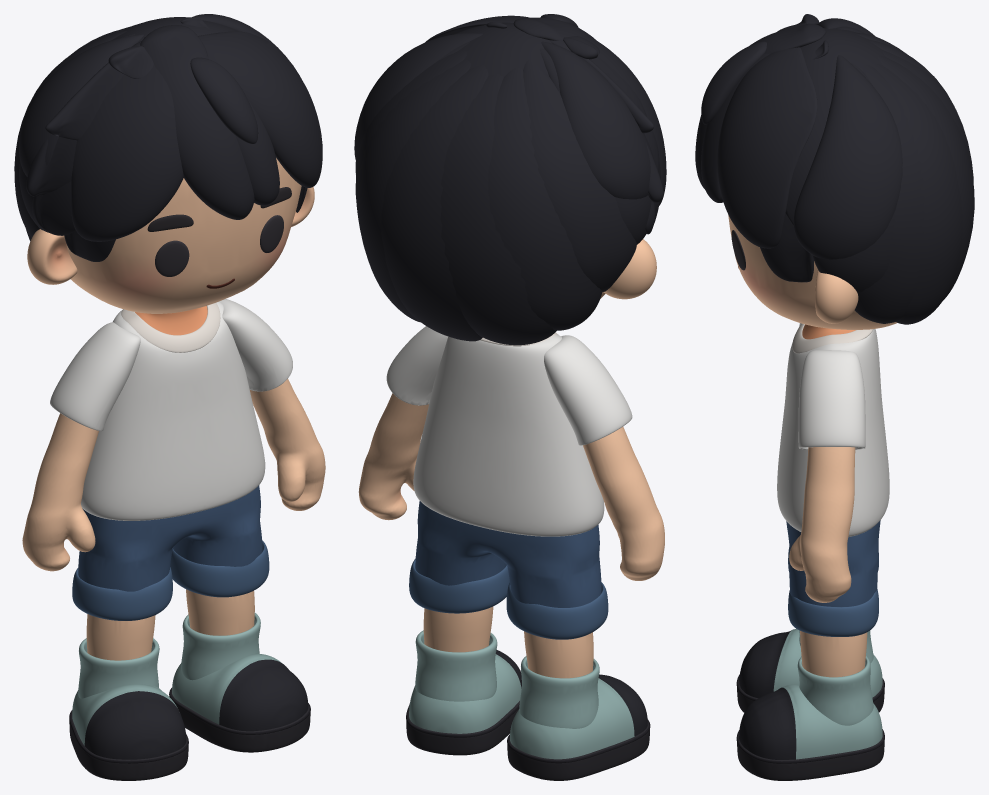
Rendered from nhan-vat-chibi.glb.
3 views of the same model, side by side, from view 1: azimuth 30°, elevation 25°; view 2: azimuth 150°, elevation 25°; view 3: azimuth 270°, elevation 25° (orthographic). The views are drawn at different scales.
Parts seen in each view (by area): view 1: Áo thun • thân và gấu, Đầu • da và sắc má, Mái 01 • cánh trái, Quần short • thân liền hai ống, Mái 02 • nhánh giữa dài, Mái 04 • cánh phải, Cánh tay và bàn tay trái, Giày • thân và mũi phải, Giày • thân và mũi trái, Áo thun • tay trái, Cánh tay và bàn tay phải, Lớp ngoài trái • móc giữa (+25 smaller); view 2: Áo thun • thân và gấu, Tóc gáy • trái, Tóc gáy • giữa, Tóc sau trái • dưới, Quần short • thân liền hai ống, Tóc thái dương • trái sau, Lớp ngoài trái • móc giữa, Cánh tay và bàn tay trái, Tóc gáy • phải, Áo thun • tay trái, Giày • thân và mũi trái, Cánh tay và bàn tay phải (+21 smaller); view 3: Lớp ngoài phải • mái vòng, Mái 04 • cánh phải, Áo thun • thân và gấu, Tóc gáy • phải, Cánh tay và bàn tay phải, Giày • thân và mũi phải, Tóc sau phải • dưới, Áo thun • tay phải, Nền tóc, Đầu • da và sắc má, Giày • thân và mũi trái, Tóc gáy • giữa (+14 smaller).
Boxes of the visible parts, <box> form: Áo thun • thân và gấu: <box>81,301,265,520</box>; Đầu • da và sắc má: <box>66,158,301,313</box>; Mái 01 • cánh trái: <box>71,41,183,241</box>; Quần short • thân liền hai ống: <box>78,485,262,591</box>; Mái 02 • nhánh giữa dài: <box>140,25,254,219</box>; Mái 04 • cánh phải: <box>198,31,322,187</box>; Cánh tay và bàn tay trái: <box>22,413,98,571</box>; Giày • thân và mũi phải: <box>172,653,308,731</box>; Giày • thân và mũi trái: <box>72,684,186,759</box>; Áo thun • tay trái: <box>50,322,140,431</box>; Cánh tay và bàn tay phải: <box>250,379,325,510</box>; Lớp ngoài trái • móc giữa: <box>19,34,143,176</box>; Áo thun • thân và gấu: <box>413,335,604,536</box>; Tóc gáy • trái: <box>440,74,556,345</box>; Tóc gáy • giữa: <box>381,65,488,341</box>; Tóc sau trái • dưới: <box>488,68,602,330</box>; Quần short • thân liền hai ống: <box>415,501,601,607</box>; Tóc thái dương • trái sau: <box>523,59,636,291</box>; Lớp ngoài trái • móc giữa: <box>541,41,653,199</box>; Cánh tay và bàn tay trái: <box>583,427,664,580</box>; Tóc gáy • phải: <box>356,59,471,322</box>; Áo thun • tay trái: <box>544,335,632,445</box>; Giày • thân và mũi trái: <box>510,674,647,759</box>; Cánh tay và bàn tay phải: <box>358,393,428,520</box>; Lớp ngoài phải • mái vòng: <box>793,55,902,259</box>; Mái 04 • cánh phải: <box>717,47,817,248</box>; Áo thun • thân và gấu: <box>777,329,889,536</box>; Tóc gáy • phải: <box>873,64,962,324</box>; Cánh tay và bàn tay phải: <box>789,447,855,602</box>; Giày • thân và mũi phải: <box>739,684,882,759</box>; Tóc sau phải • dưới: <box>854,64,925,323</box>; Áo thun • tay phải: <box>798,350,865,449</box>; Nền tóc: <box>785,28,885,225</box>; Đầu • da và sắc má: <box>728,215,897,329</box>; Giày • thân và mũi trái: <box>739,628,882,698</box>; Tóc gáy • giữa: <box>877,55,974,299</box>.
Bounding box in the file's own units: 0.4548 × 1.05 × 0.3806.
